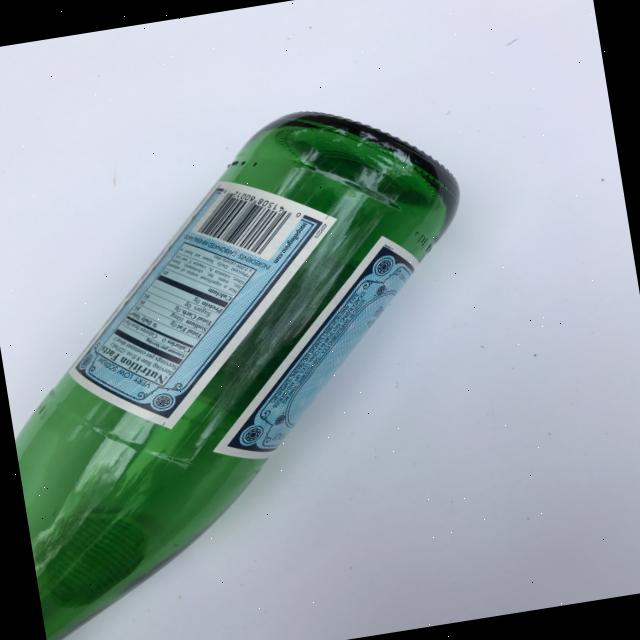glass: (0, 87, 521, 640)
